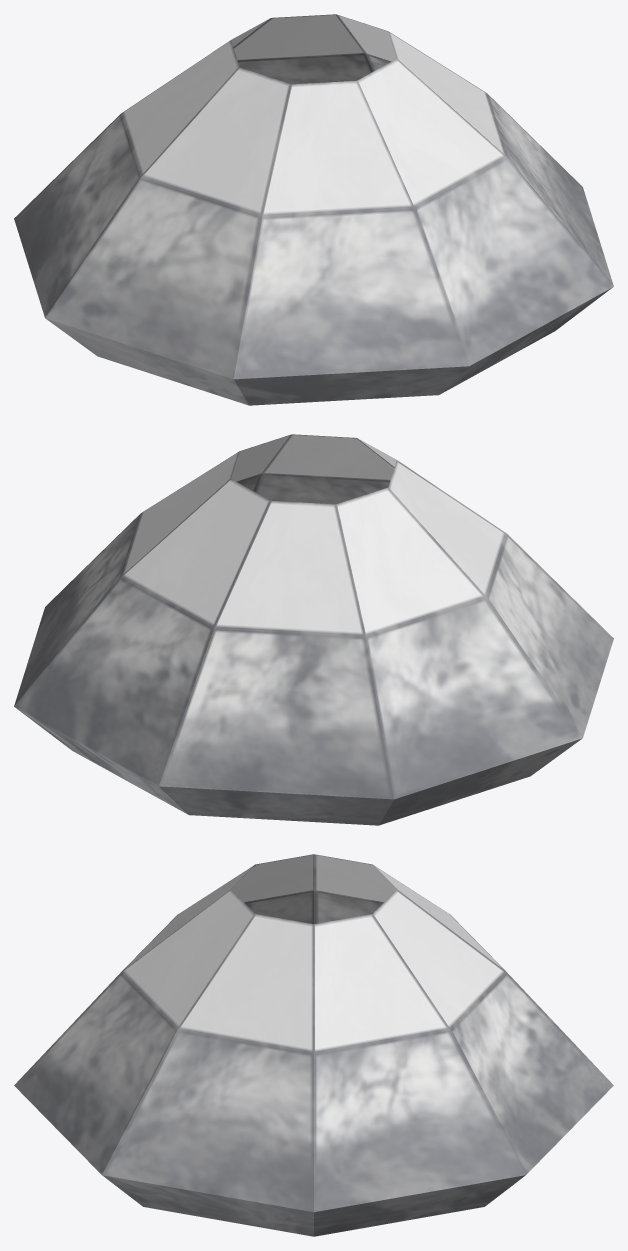
The model's file is nozzle_06.fbx.
3 renders of one model, top to bottom at view 1: azimuth 30°, elevation 25°; view 2: azimuth 150°, elevation 25°; view 3: azimuth 270°, elevation 25°, orthographic. The views are drawn at different scales.
Parts seen in each view (by area): view 1: nozzle_06; view 2: nozzle_06; view 3: nozzle_06.
Boxes of the visible parts, x1,y1,x2,y2 form: nozzle_06: [14, 14, 613, 405]; nozzle_06: [14, 434, 613, 825]; nozzle_06: [14, 854, 613, 1236].
Bounding box in the file's own units: 8.11 × 3.66 × 8.11.
